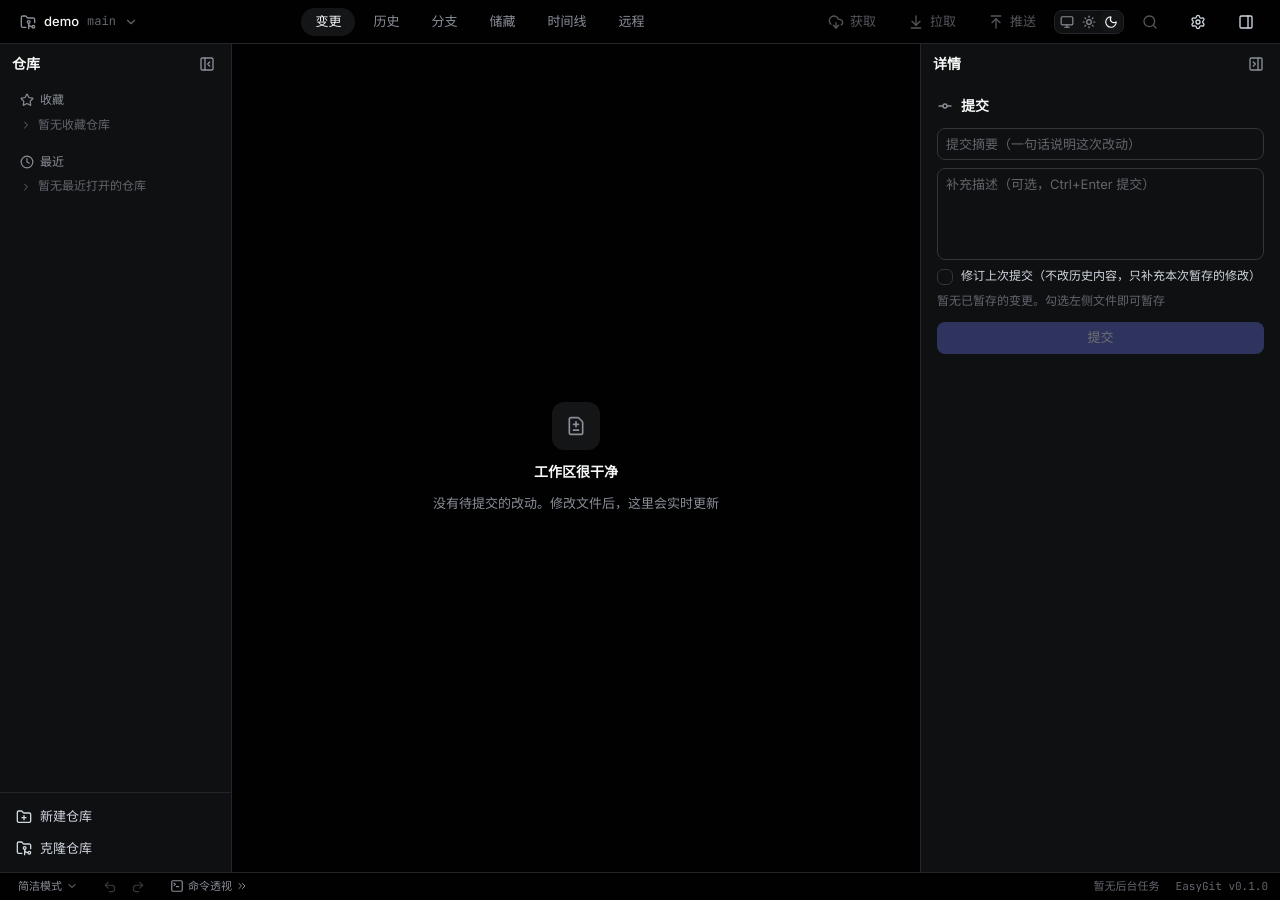
Scenario: AppShell with an active repository › collapses and restores the detail panel from the top bar
Check: the element with test id "detail-panel" is shown, box 920,44 -> 1279,872
Click the button with test id "detail-toggle".
click(1246, 22)  # box 1224,8 -> 1268,36
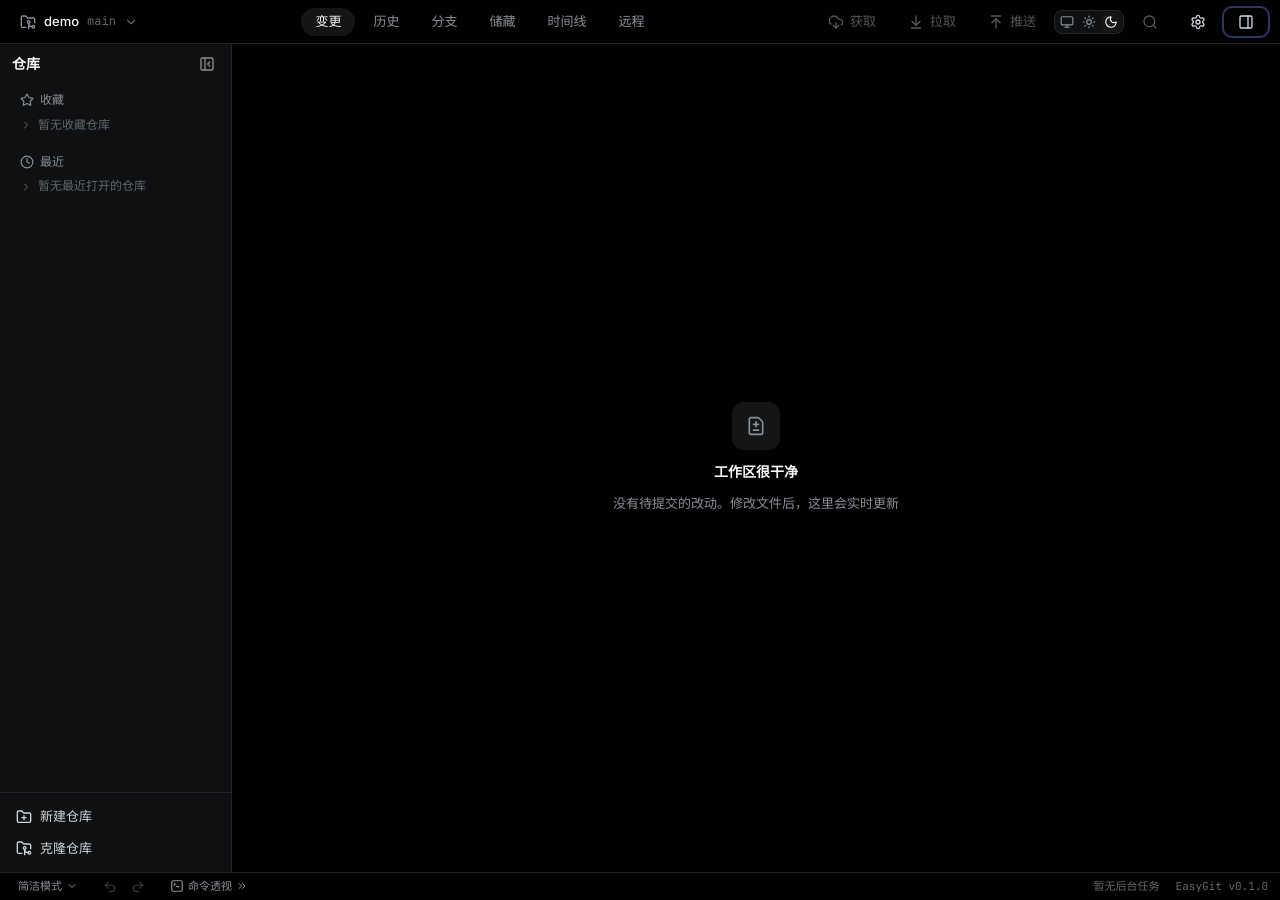
Check: the element with test id "detail-panel" is gone
Click the button with test id "detail-toggle".
click(1246, 22)  # box 1224,8 -> 1268,36
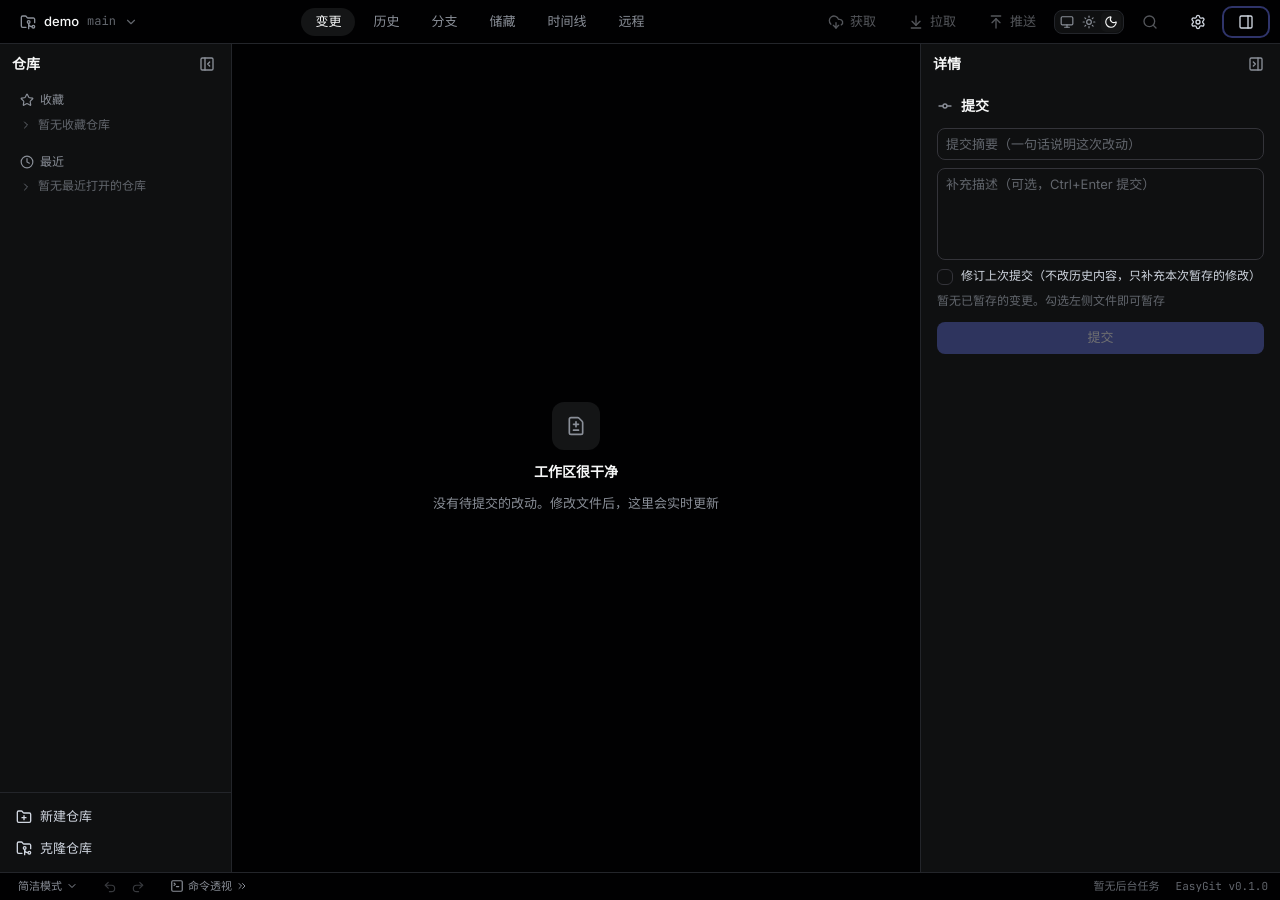
Check: the element with test id "detail-panel" is shown, box 920,44 -> 1279,872
